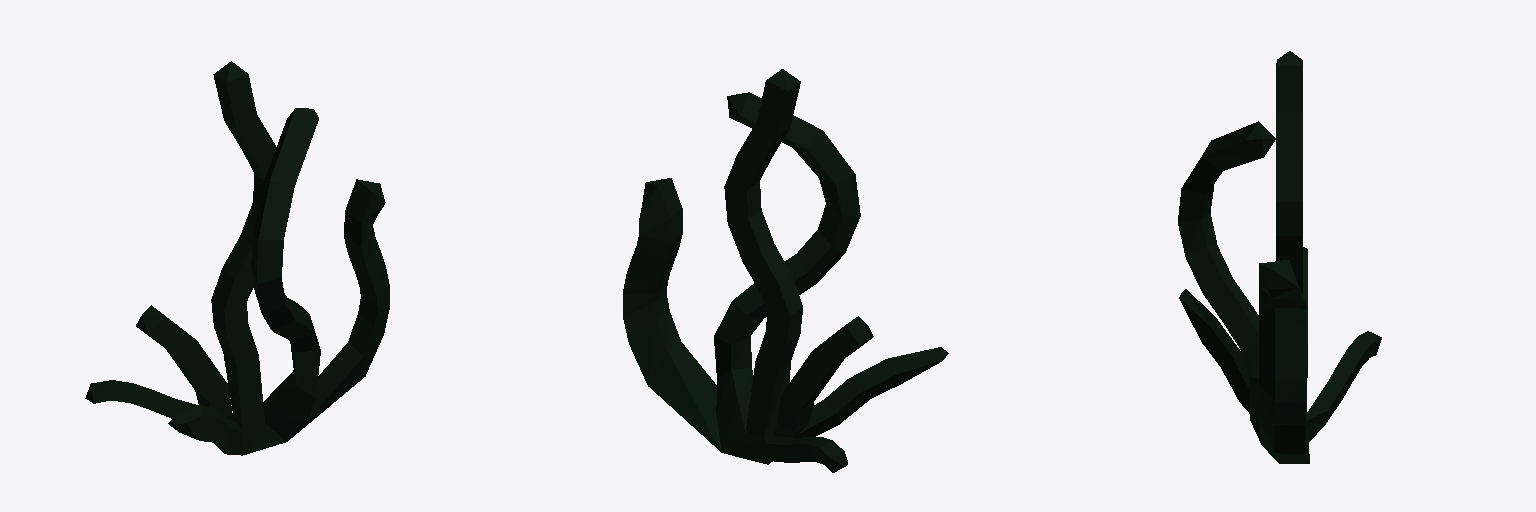
Rendered from coral2.obj.
The picture shows the model from 3 angles: view 1: azimuth 30°, elevation 25°; view 2: azimuth 150°, elevation 25°; view 3: azimuth 270°, elevation 25°; orthographic projection.
Visible parts, largest first — view 1: pCube2; view 2: pCube2; view 3: pCube2.
Part boxes in pixels (x1,y1,x2,y2): pCube2: (85, 61, 389, 455); pCube2: (623, 69, 948, 472); pCube2: (1178, 51, 1381, 463).
Size of the model in its own units: 11.65 by 16.5 by 7.82.